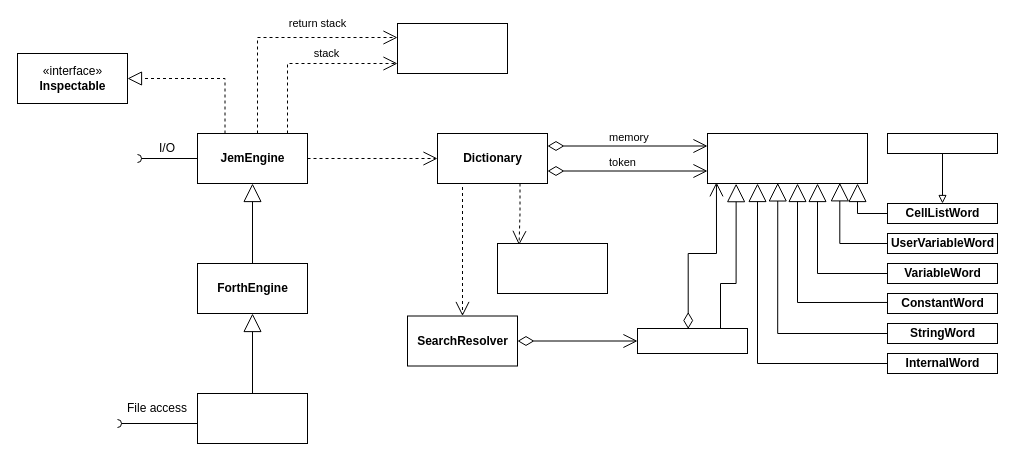
Some shapes in this 1015 by 461 pixel diagram are drawn without their labels. The box of each missing label's shape, as (x1, y1, x2, y2) in pixels:
ColonWord: (886, 132, 998, 154)
Forth83Engine: (196, 392, 308, 444)
IntegerStack: (396, 22, 508, 74)
MemoryMapper: (496, 242, 608, 294)
VocabularyWord: (636, 328, 748, 354)
Word: (706, 132, 868, 184)
